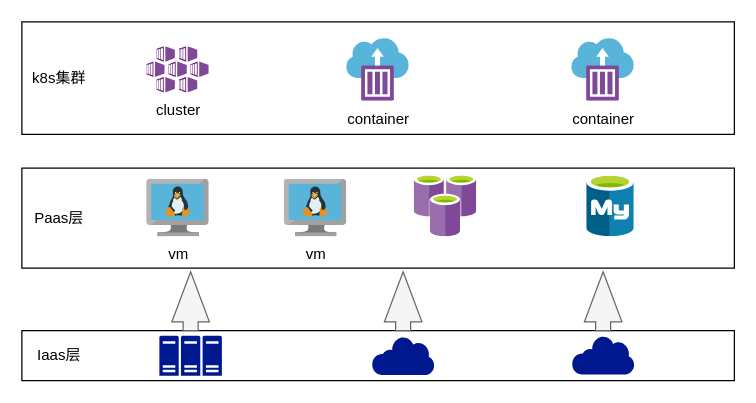
This 756x403 diagram has some shape labels left out. The centre of each missing label's shape, as x and y in pixels:
"mysql cluster" belongs at pixel 610 205.
"redis" belongs at pixel 445 205.
